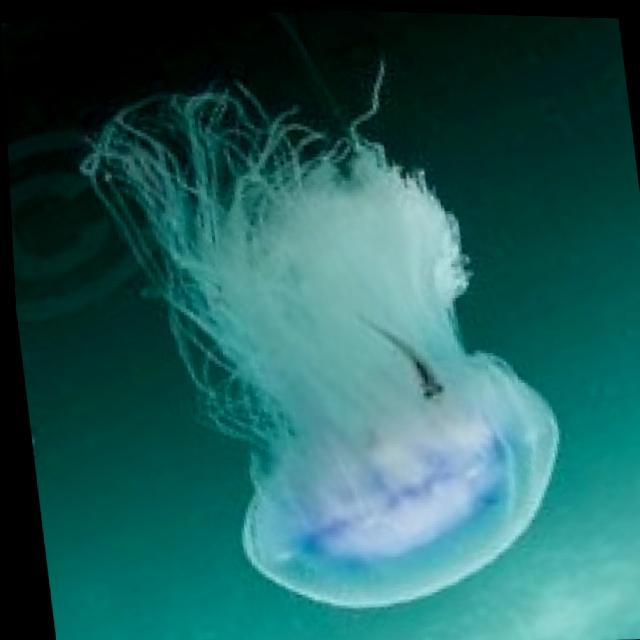Jellyfish: (35, 34, 588, 640)
